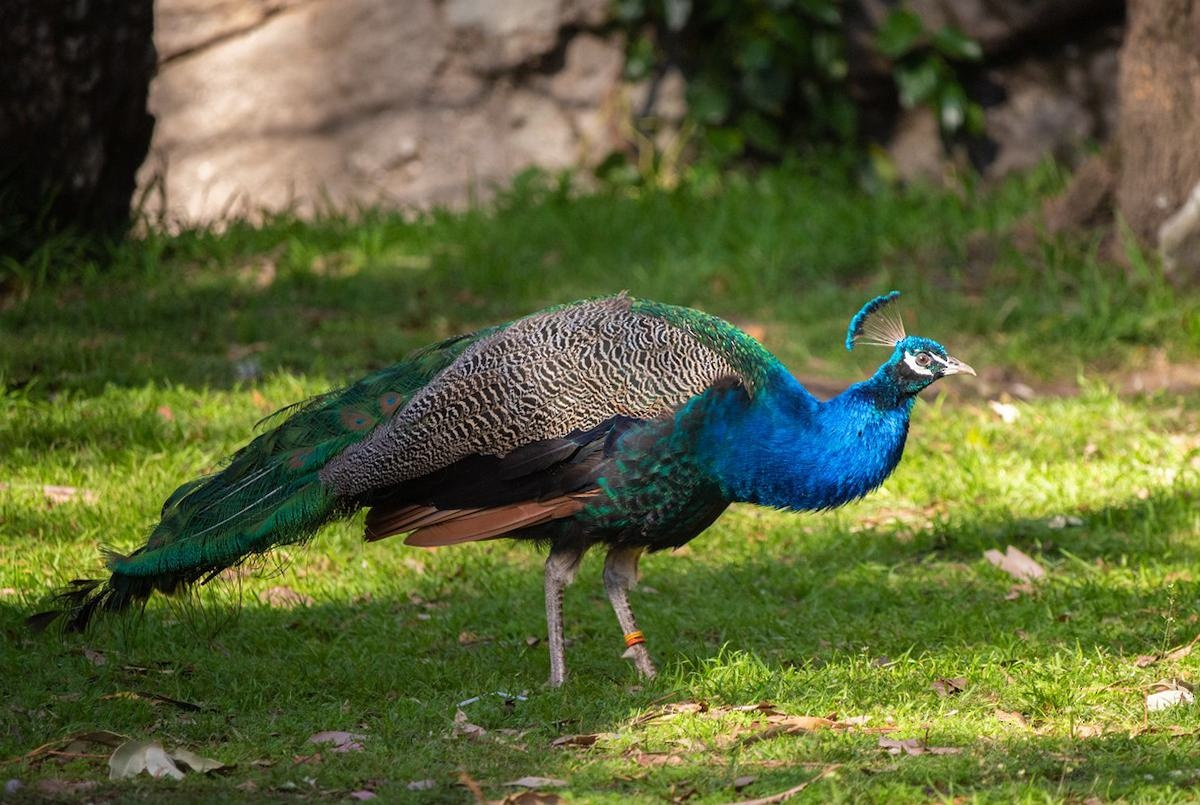peacock: (220, 273, 1000, 627)
